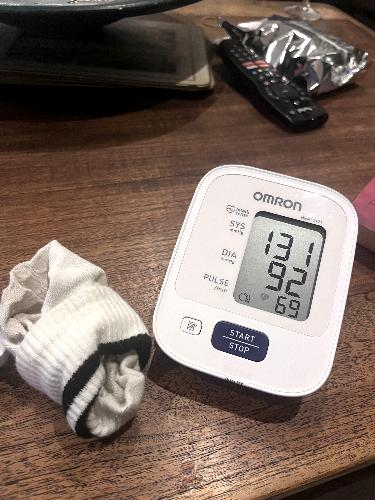bpm: (229, 206, 336, 325)
